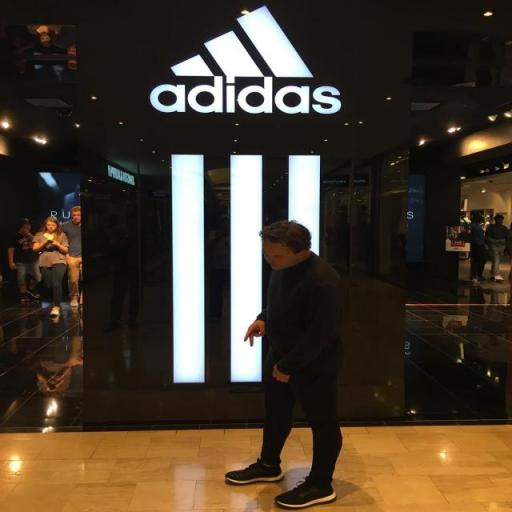Adidas: (147, 4, 343, 114)
